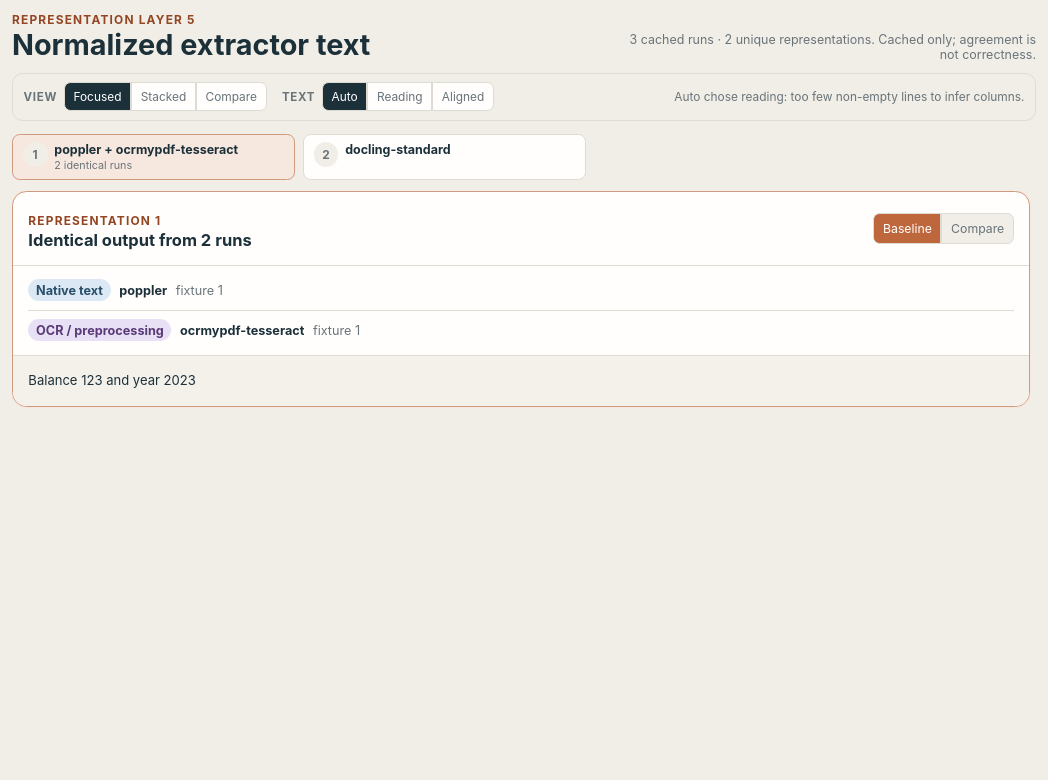
Test: comparison workspace › switches between focused, stacked, and integrated comparison modes
The image size is (1048, 780).
Expected: the element that starts with "poppler + ocrmypdf-tesseract" is shown, [12,134,1036,460]
Click the button "2 docling-standard".
click(445, 157)  # box [303,134,586,180]
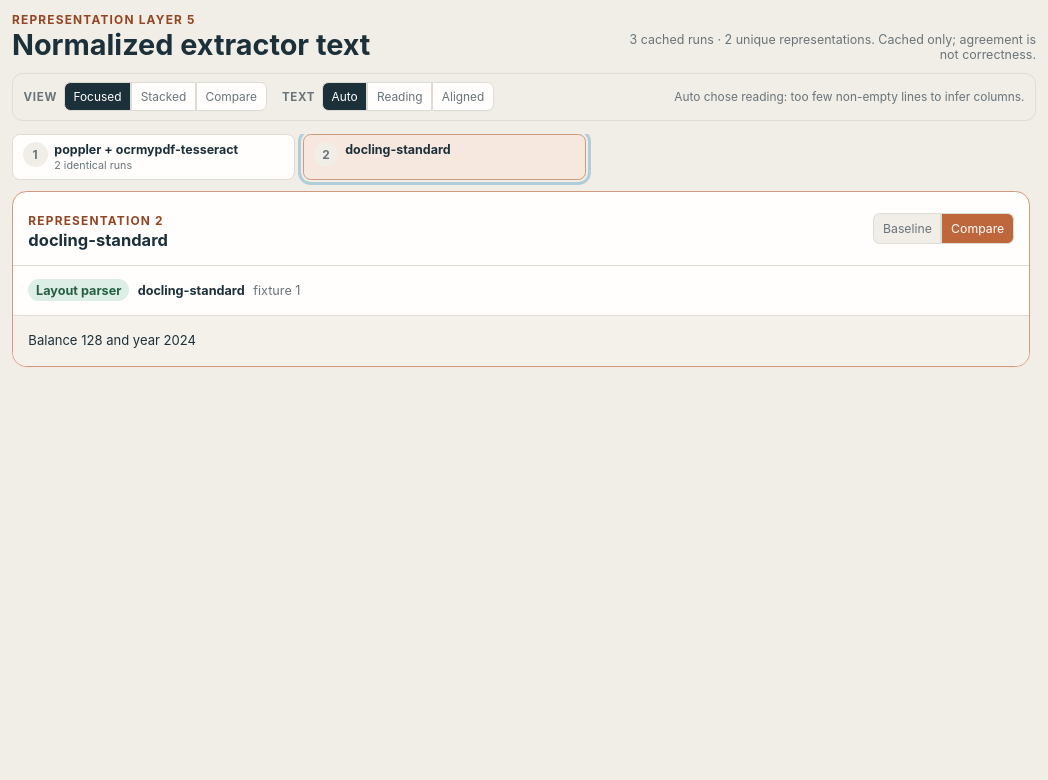
Expected: the heading "docling-standard" is shown, [28,230,168,250]
Click the button "Stacked".
click(164, 97)  # box [131,82,196,112]
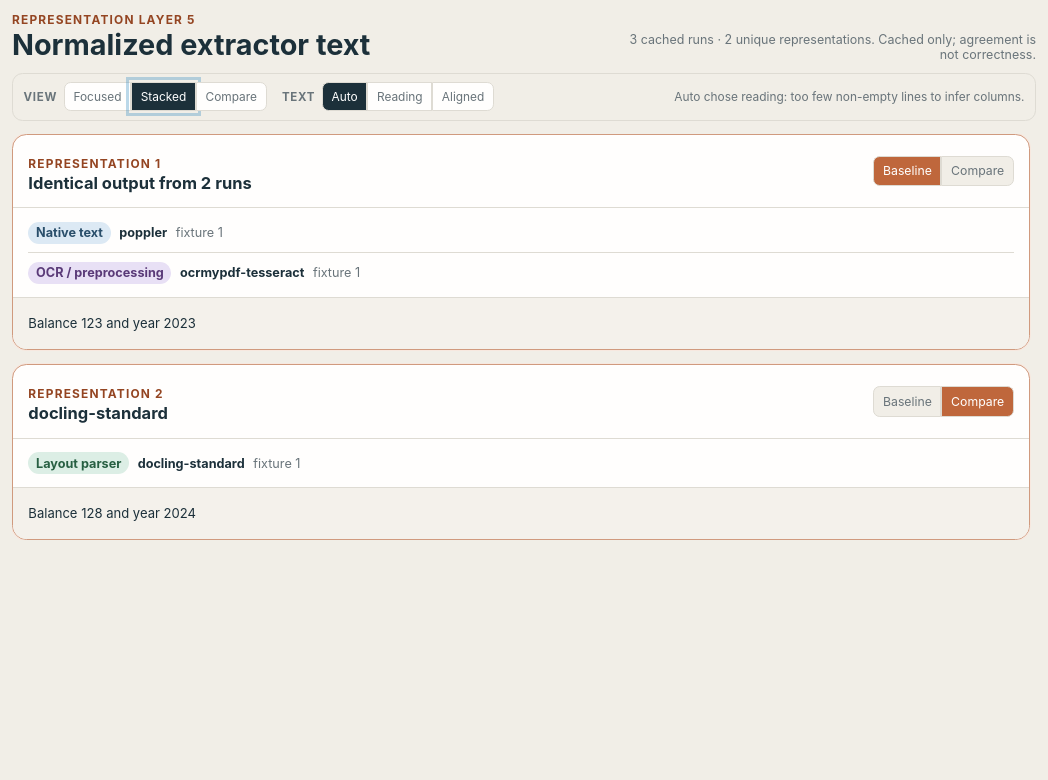
Expected: the heading "Identical output from 2 runs" is shown, [28,173,252,193]
Click the button "Compare" in the row of "View".
click(231, 97)  # box [196,82,267,112]
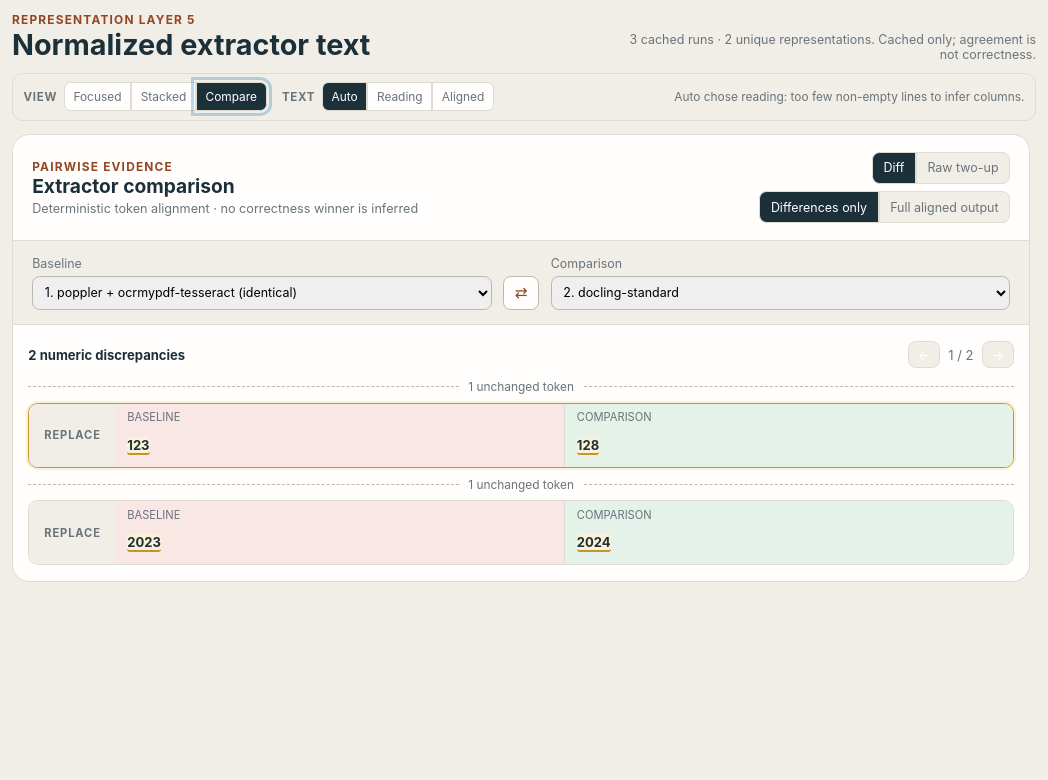
Expected: the text "2 numeric discrepancies" is shown, [28,347,185,363]
Expected: the element "Extractor comparison" is shown, [12,134,1030,582]
Click the button "Raw two-up".
click(963, 168)  # box [916,152,1010,184]
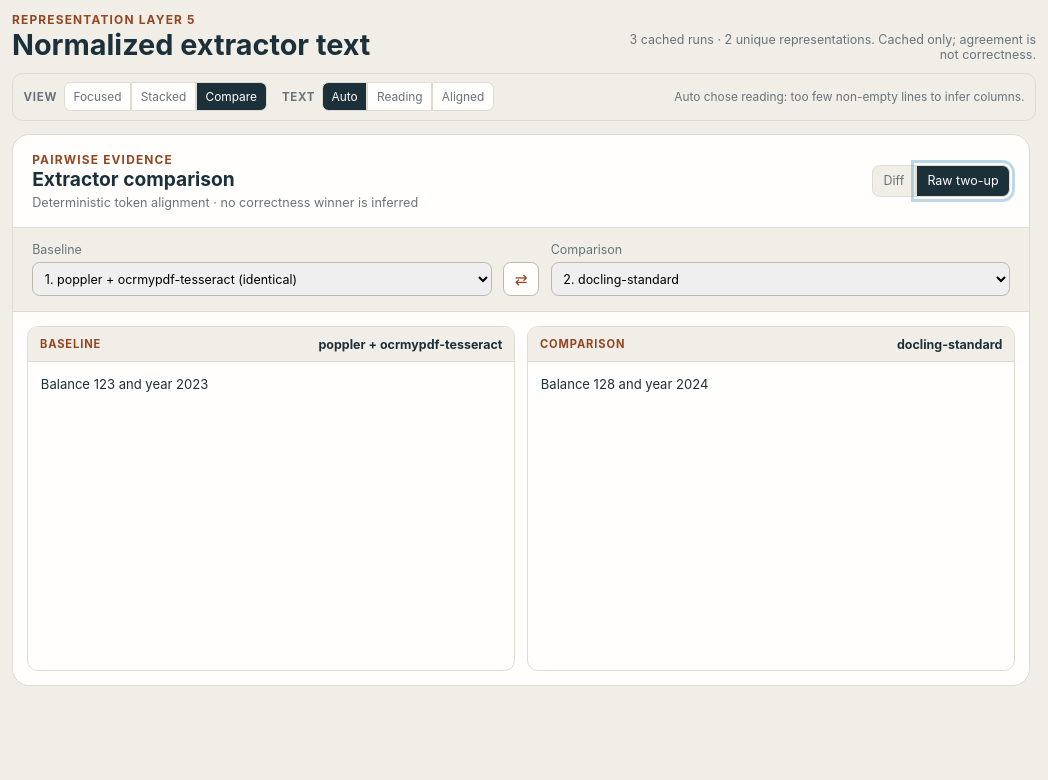
Expected: the element named "Raw extractor outputs" is shown, [13,312,1029,685]
